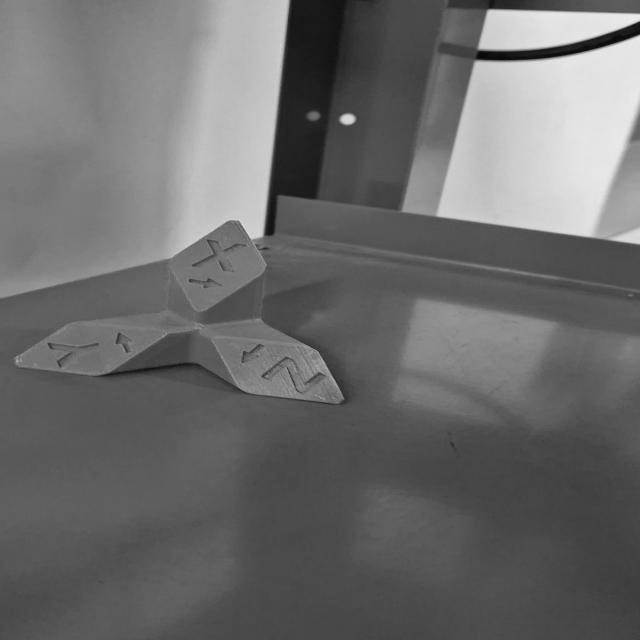eje: (8, 215, 356, 409)
